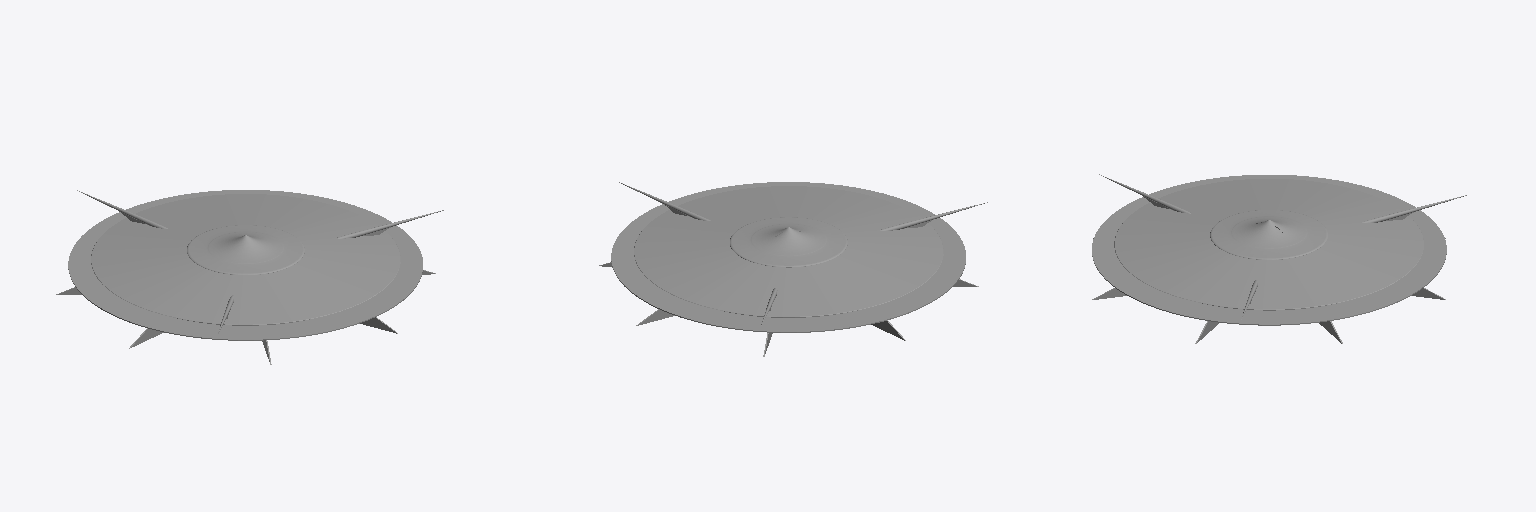
Rendered from orion_.obj.
3 views of the same model, side by side, from view 1: azimuth 30°, elevation 25°; view 2: azimuth 150°, elevation 25°; view 3: azimuth 270°, elevation 25° (orthographic).
Visible parts, largest first — view 1: oben, mitte, radar_haube, nadeln, fluegel; view 2: oben, mitte, radar_haube, nadeln, fluegel; view 3: oben, mitte, radar_haube, nadeln, fluegel.
Part boxes in pixels (x1,y1,x2,y2): oben: (91, 194, 400, 324); mitte: (68, 190, 422, 340); radar_haube: (187, 225, 304, 274); nadeln: (77, 190, 443, 333); fluegel: (56, 270, 435, 364); oben: (634, 186, 943, 316); mitte: (611, 182, 965, 332); radar_haube: (730, 217, 847, 267); nadeln: (619, 182, 987, 325); fluegel: (599, 262, 978, 356); oben: (1114, 179, 1423, 309); mitte: (1092, 175, 1446, 325); radar_haube: (1210, 210, 1327, 259); nadeln: (1099, 174, 1466, 319); fluegel: (1092, 237, 1445, 343).
Bounding box in the file's own units: 3.56 × 0.583 × 3.43.